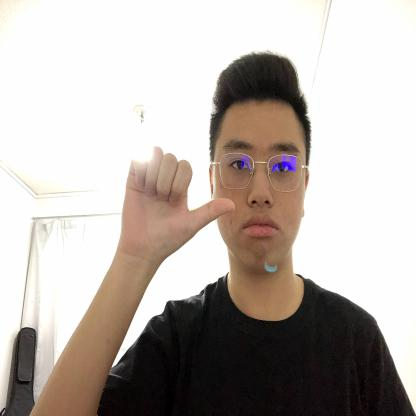left: (118, 145, 238, 265)
